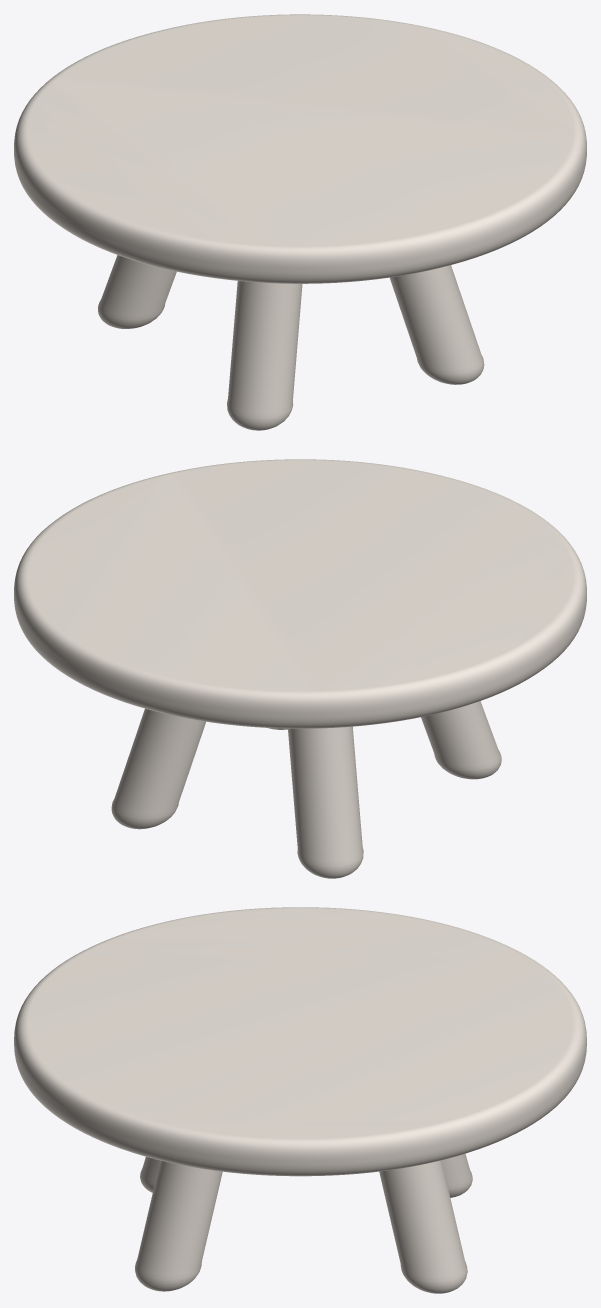
The model's file is mesa_nina.obj.
3 views of the same model, one above another, from view 1: azimuth 30°, elevation 25°; view 2: azimuth 150°, elevation 25°; view 3: azimuth 270°, elevation 25° (orthographic).
Parts seen in each view (by area): view 1: Mesh5 JianE_model_2021310174558750_3 JianE_model_202131017455874, Mesh3 JianE_model_2021310174558750_1 JianE_model_202131017455874, Mesh2 JianE_model_2021310174558750 JianE_model_2021310174558749_, Mesh1 JianE_model_2021310174558749_2 JianE_model_202131017455874; view 2: Mesh5 JianE_model_2021310174558750_3 JianE_model_202131017455874, Mesh1 JianE_model_2021310174558749_2 JianE_model_202131017455874, Mesh4 JianE_model_2021310174558750_2 JianE_model_202131017455874, Mesh3 JianE_model_2021310174558750_1 JianE_model_202131017455874; view 3: Mesh5 JianE_model_2021310174558750_3 JianE_model_202131017455874, Mesh4 JianE_model_2021310174558750_2 JianE_model_202131017455874, Mesh2 JianE_model_2021310174558750 JianE_model_2021310174558749_, Mesh1 JianE_model_2021310174558749_2 JianE_model_202131017455874.
Part boxes in pixels (x1,y1,x2,y2): Mesh5 JianE_model_2021310174558750_3 JianE_model_202131017455874: (14, 14, 586, 283); Mesh3 JianE_model_2021310174558750_1 JianE_model_202131017455874: (227, 281, 302, 430); Mesh2 JianE_model_2021310174558750 JianE_model_2021310174558749_: (390, 265, 484, 384); Mesh1 JianE_model_2021310174558749_2 JianE_model_202131017455874: (98, 255, 176, 328); Mesh5 JianE_model_2021310174558750_3 JianE_model_202131017455874: (14, 459, 586, 728); Mesh1 JianE_model_2021310174558749_2 JianE_model_202131017455874: (288, 726, 363, 878); Mesh4 JianE_model_2021310174558750_2 JianE_model_202131017455874: (111, 708, 205, 829); Mesh3 JianE_model_2021310174558750_1 JianE_model_202131017455874: (421, 701, 501, 779); Mesh5 JianE_model_2021310174558750_3 JianE_model_202131017455874: (14, 907, 586, 1176); Mesh4 JianE_model_2021310174558750_2 JianE_model_202131017455874: (379, 1160, 467, 1293); Mesh2 JianE_model_2021310174558750 JianE_model_2021310174558749_: (135, 1160, 222, 1291); Mesh1 JianE_model_2021310174558749_2 JianE_model_202131017455874: (441, 1154, 472, 1197).
Size of the model in its own units: 0.9629 by 0.4091 by 0.9629.
